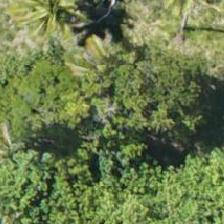coconut_tree: (140, 0, 223, 80), (3, 0, 93, 58)
